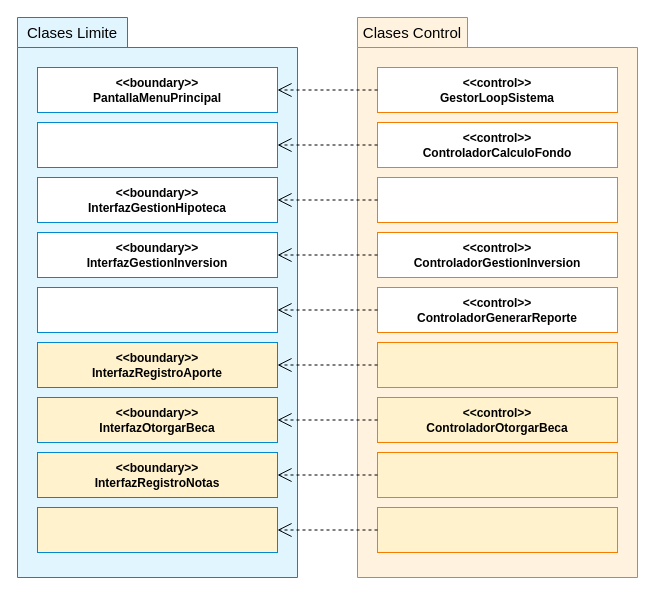
This 655x595 diagram has some shape labels left out. Here are the shapes that lost their labels. From the top down, the box of each, then its label:
(36, 122, 278, 168): <<boundary>> InterfazCalcularFondo
(376, 176, 618, 222): <<control>> ControladorGestionHipoteca
(36, 286, 278, 332): <<boundary>> InterfazImpresionReporte
(376, 342, 618, 388): <<control>> ControladorRegistroAporte
(376, 452, 618, 498): <<control>> ControladorRegistroNotas
(36, 506, 278, 552): <<boundary>> InterfazLiquidacionBeca
(376, 506, 618, 552): <<control>> ControladorLiquidacionBeca
